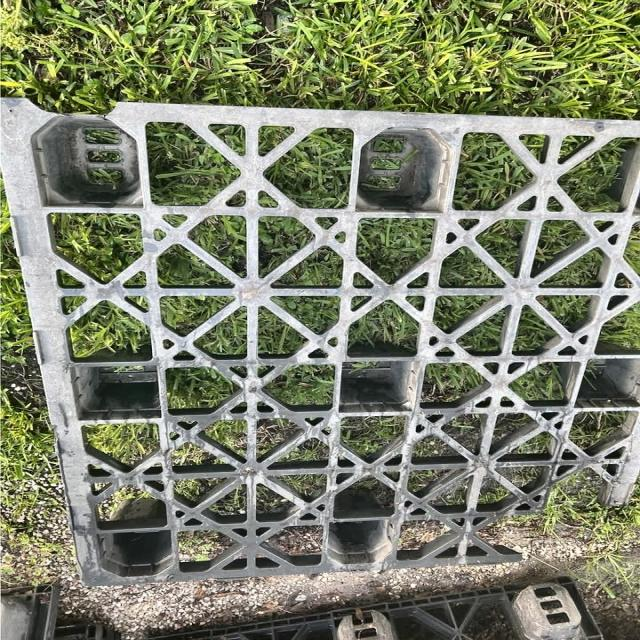non-igps: (0, 91, 640, 592), (132, 574, 627, 640)
